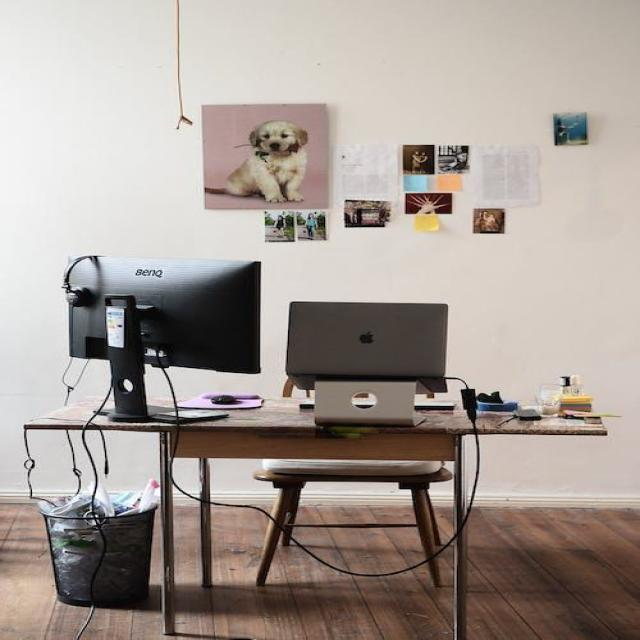trash: (45, 480, 150, 511)
